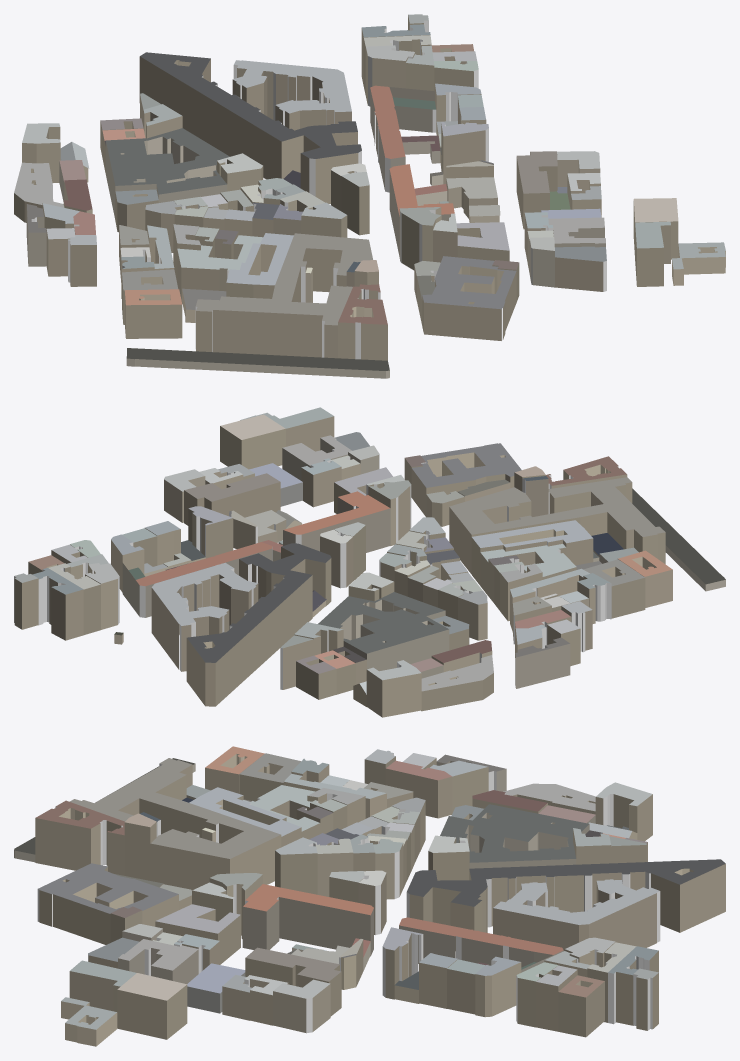
The picture shows the model from 3 angles, top to bottom: view 1: azimuth 30°, elevation 25°; view 2: azimuth 150°, elevation 25°; view 3: azimuth 270°, elevation 25°; orthographic projection. The views are drawn at different scales.
Visible parts, largest first — view 1: tuile; view 2: tuile; view 3: tuile.
Part boxes in pixels (<box>): tuile: <box>14,14,725,378</box>; tuile: <box>14,407,725,717</box>; tuile: <box>14,746,725,1046</box>.
Bounding box in the file's own units: 289 × 30.78 × 311.
